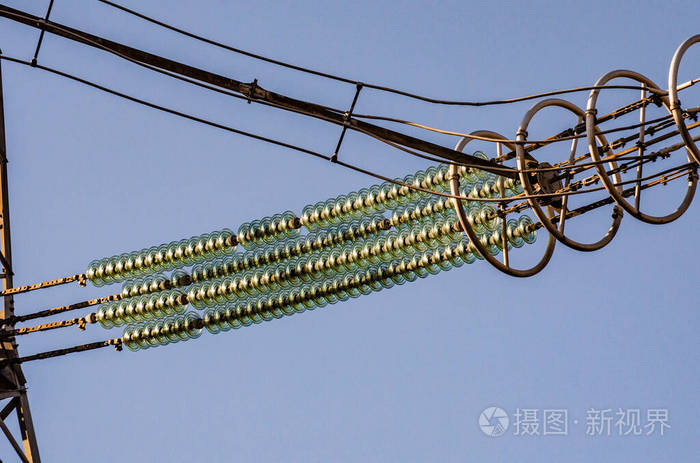insulator: (87, 154, 526, 359)
